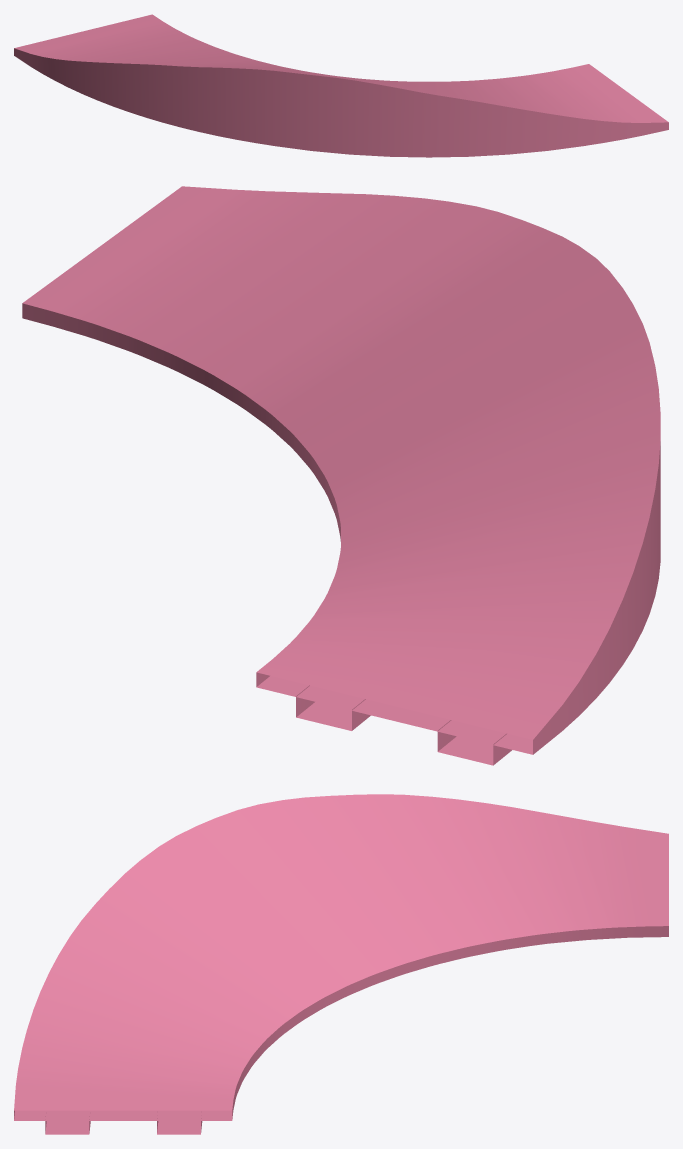
File: reayretre.fbx
3 renders of one model, top to bottom at view 1: azimuth 30°, elevation 25°; view 2: azimuth 150°, elevation 25°; view 3: azimuth 270°, elevation 25°, orthographic. The views are drawn at different scales.
Visible parts, largest first — view 1: RoadSmallTurnBig.001; view 2: RoadSmallTurnBig.001; view 3: RoadSmallTurnBig.001.
Part boxes in pixels (box(x1,y1,x2,y2)): RoadSmallTurnBig.001: box(14, 14, 668, 157); RoadSmallTurnBig.001: box(22, 186, 660, 765); RoadSmallTurnBig.001: box(14, 794, 668, 1134).
Size of the model in its own units: 6000 by 1186 by 6000.
